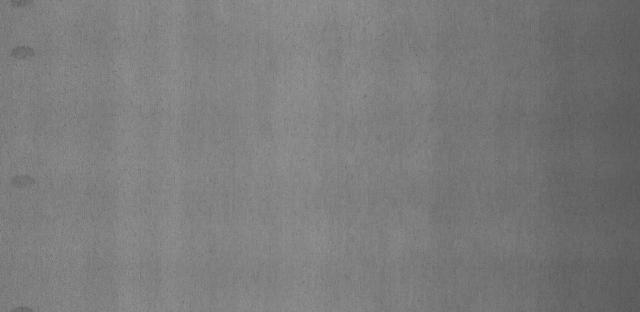oil_spot: (8, 170, 41, 198), (9, 43, 33, 62)
